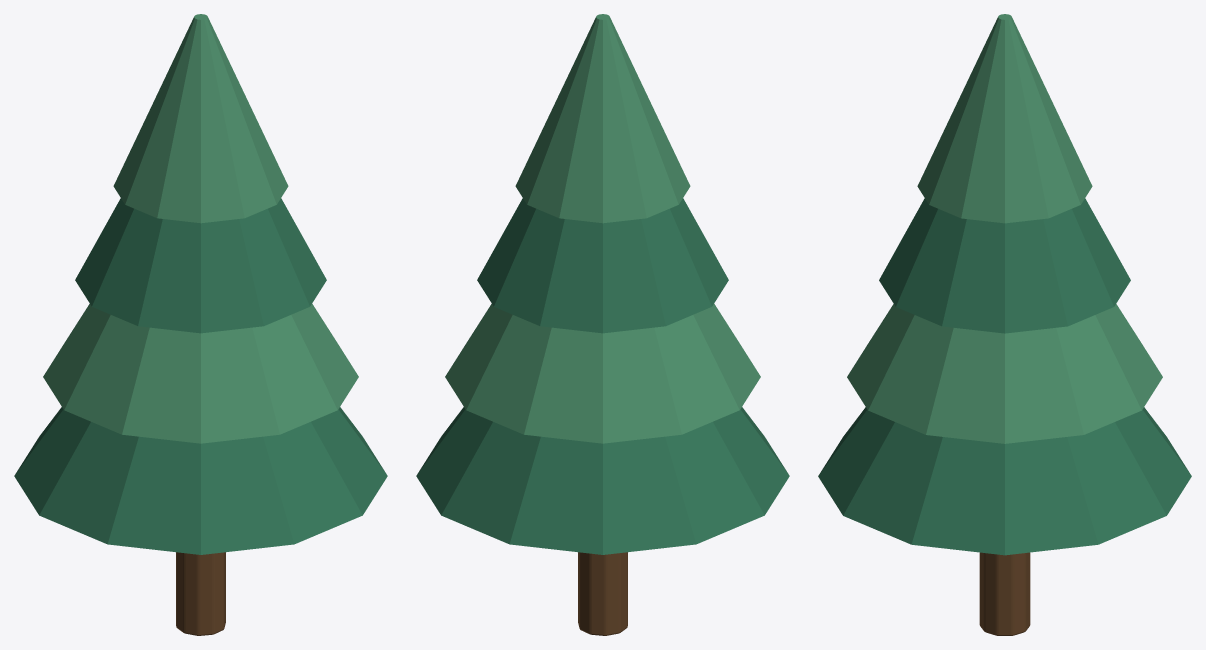
Rendered from pine_medium_6p3m.glb.
3 renders of one model, left to right at view 1: azimuth 30°, elevation 25°; view 2: azimuth 150°, elevation 25°; view 3: azimuth 270°, elevation 25°, orthographic.
Visible parts, largest first — view 1: pine_medium_tier_01, pine_medium_tier_02, pine_medium_tier_03, pine_medium_tier_04, pine_medium_trunk; view 2: pine_medium_tier_01, pine_medium_tier_02, pine_medium_tier_03, pine_medium_tier_04, pine_medium_trunk; view 3: pine_medium_tier_01, pine_medium_tier_02, pine_medium_tier_03, pine_medium_tier_04, pine_medium_trunk.
Part boxes in pixels (bbox=[...]): pine_medium_tier_01: bbox=[14, 407, 387, 554]; pine_medium_tier_02: bbox=[43, 304, 358, 443]; pine_medium_tier_03: bbox=[75, 198, 326, 333]; pine_medium_tier_04: bbox=[113, 14, 288, 223]; pine_medium_trunk: bbox=[176, 552, 225, 635]; pine_medium_tier_01: bbox=[416, 407, 789, 554]; pine_medium_tier_02: bbox=[445, 304, 760, 443]; pine_medium_tier_03: bbox=[477, 198, 728, 333]; pine_medium_tier_04: bbox=[515, 14, 690, 223]; pine_medium_trunk: bbox=[578, 552, 627, 635]; pine_medium_tier_01: bbox=[818, 407, 1191, 555]; pine_medium_tier_02: bbox=[847, 304, 1162, 443]; pine_medium_tier_03: bbox=[879, 198, 1130, 333]; pine_medium_tier_04: bbox=[917, 14, 1092, 223]; pine_medium_trunk: bbox=[979, 552, 1030, 635].
Bounding box in the file's own units: 3.5 × 6.3 × 3.5.
